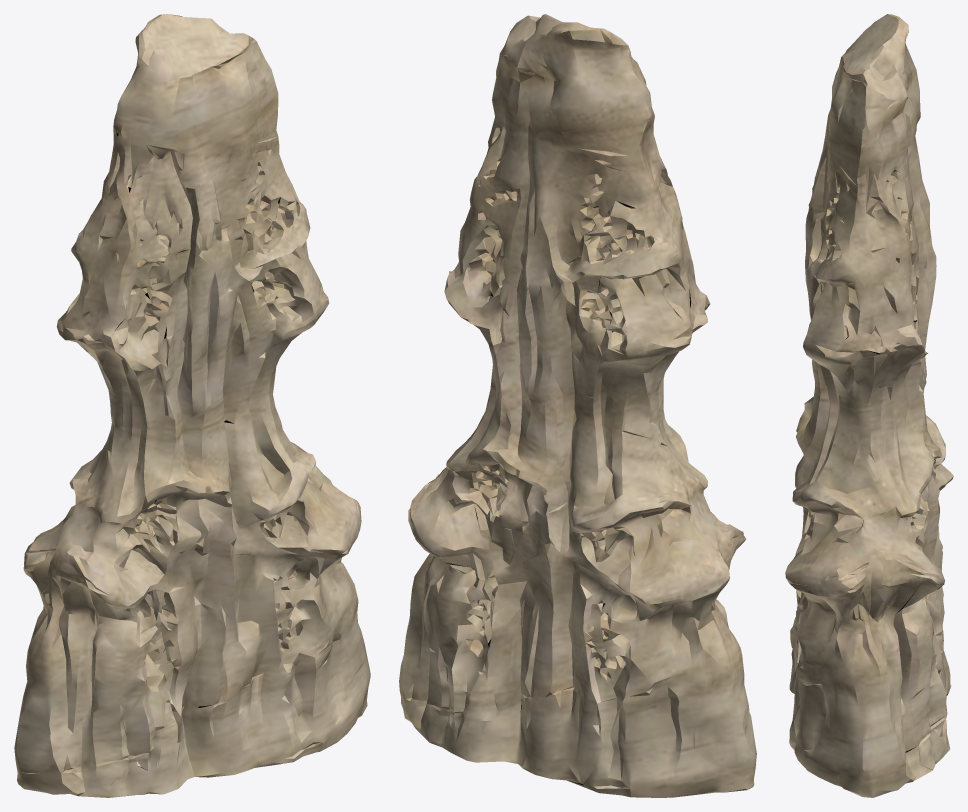
File: isle_stack_a.glb
3 renders of one model, left to right at view 1: azimuth 30°, elevation 25°; view 2: azimuth 150°, elevation 25°; view 3: azimuth 270°, elevation 25°, orthographic. The views are drawn at different scales.
Parts seen in each view (by area): view 1: isle_stack_a; view 2: isle_stack_a; view 3: isle_stack_a.
Boxes of the visible parts, x1=… form: isle_stack_a: x1=14, y1=14, x2=370, y2=797; isle_stack_a: x1=399, y1=14, x2=756, y2=797; isle_stack_a: x1=785, y1=14, x2=953, y2=797.
Bounding box in the file's own units: 0.5045 × 1 × 0.2206.
Materials: 1 (1 with a texture image).
